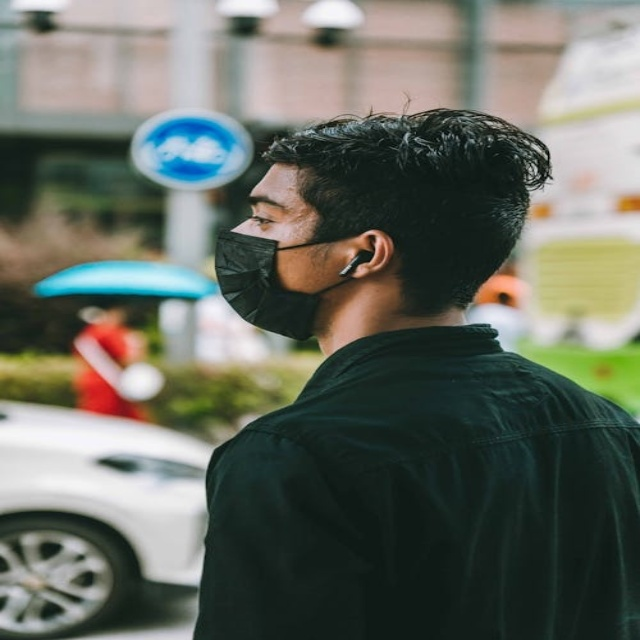Mascara: (214, 227, 338, 341)
Sin_gafas: (239, 190, 297, 229)
